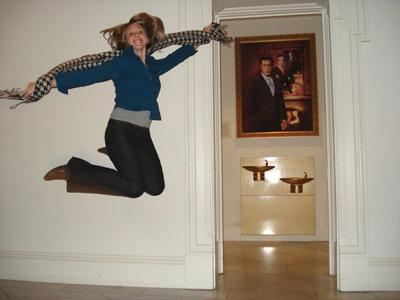person: (19, 15, 227, 198)
